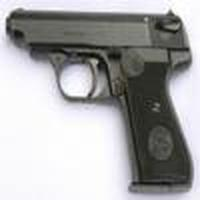gun: (6, 3, 193, 199)
